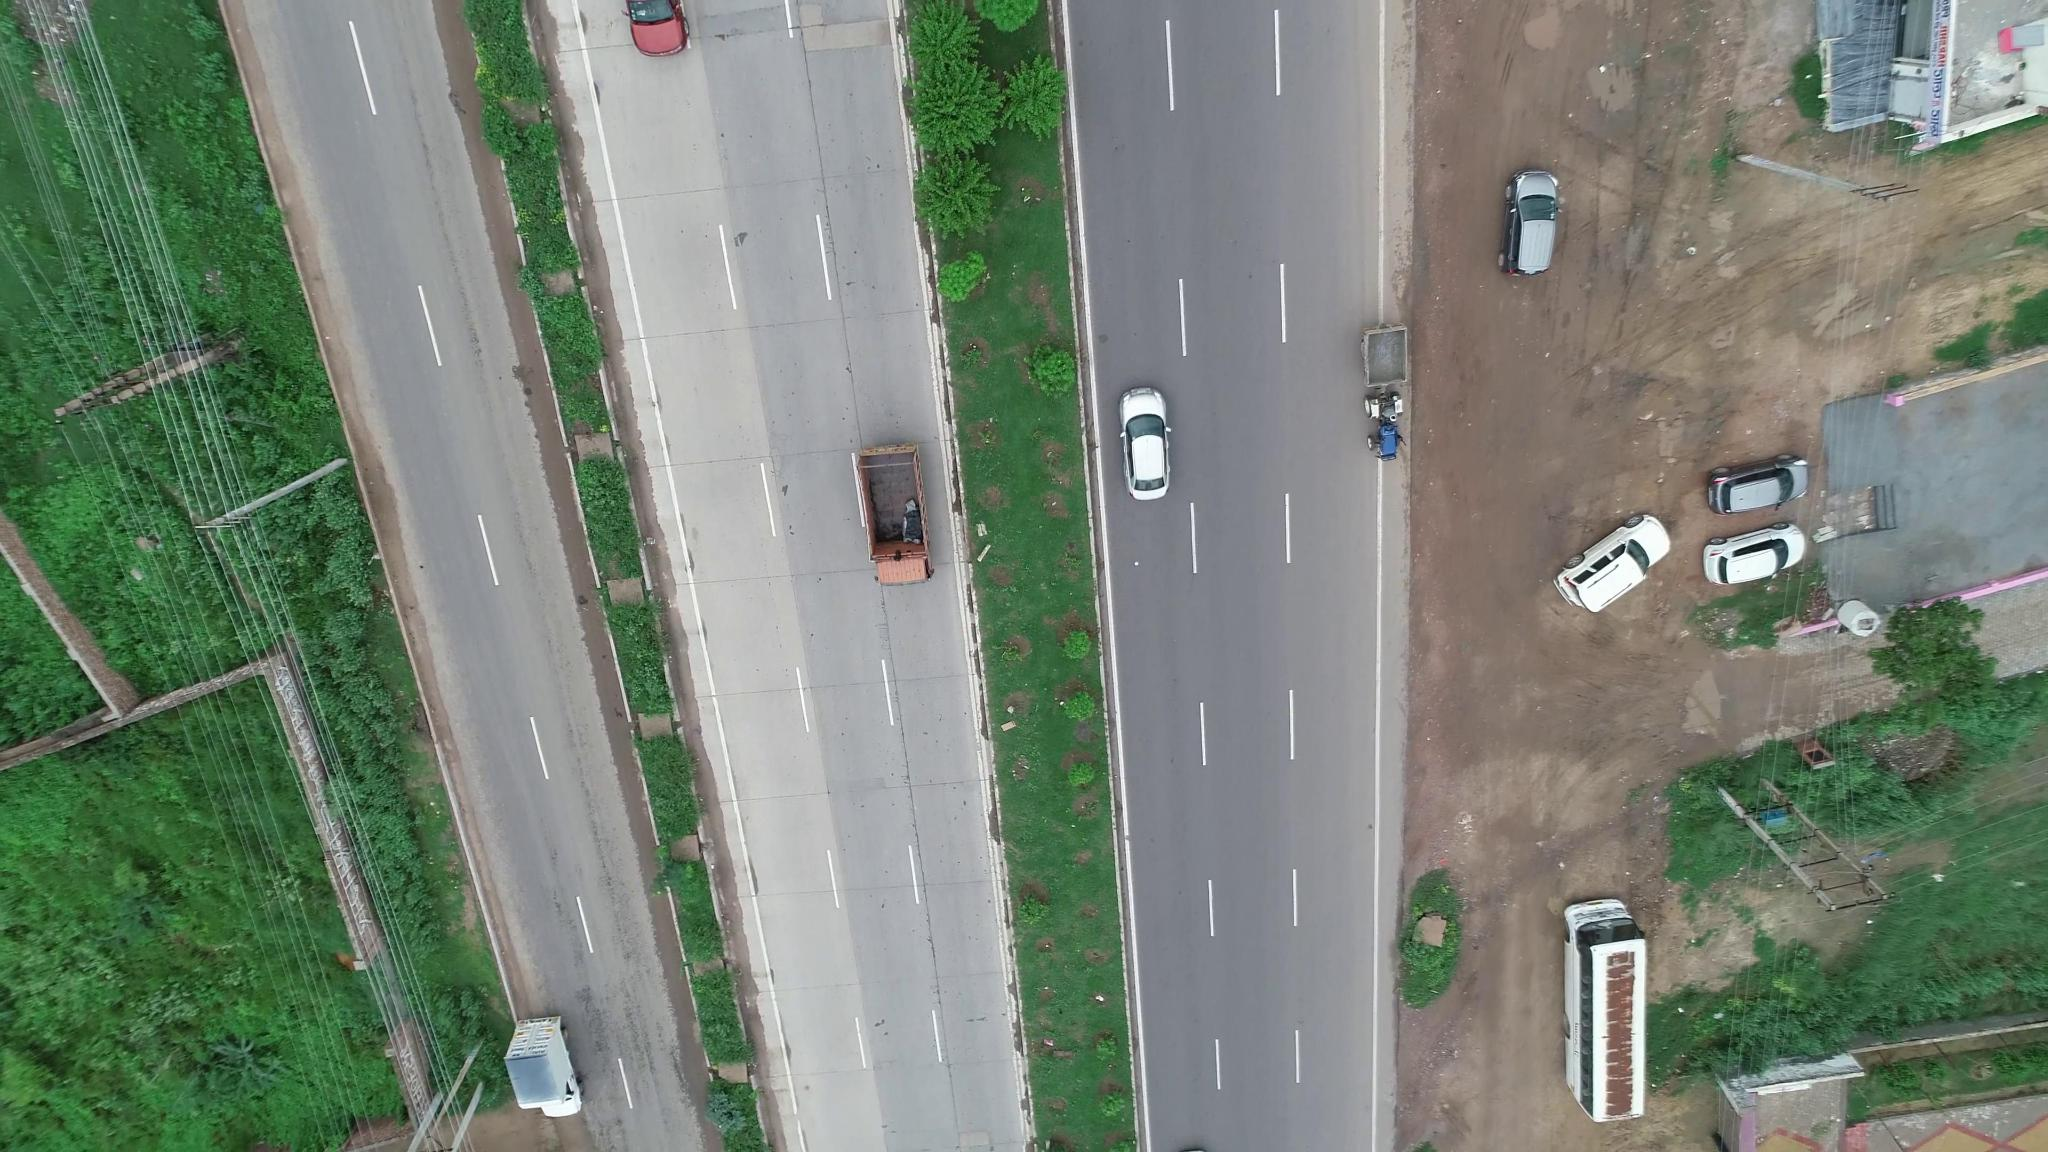Muddy_road: (1426, 333, 1625, 736), (1405, 761, 1566, 1151)
